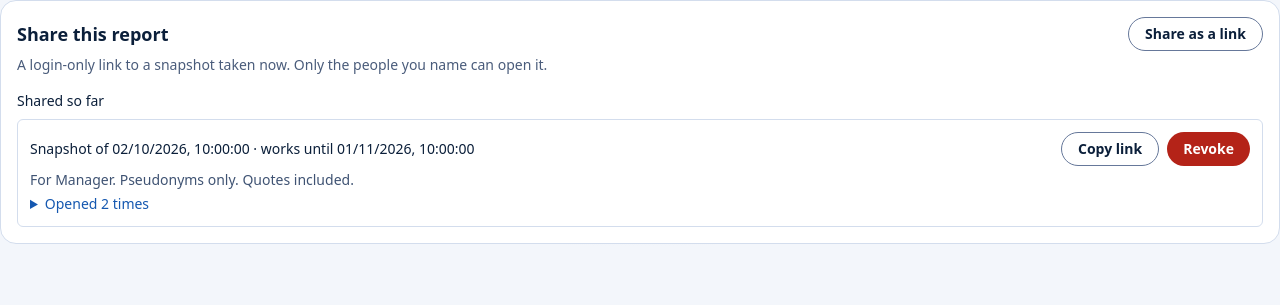
Scenario: Share panel (spec 6.5) › lists what was shared, who opened it, and revokes a link
The width and height of the screenshot is (1280, 305).
expect the text "works until" is shown: met, box [261, 139, 474, 158]
expect the text "For Manager. Pseudonyms only. Quotes included." is shown: met, box [30, 170, 354, 189]
Click the heading "Opened 2 times": click(97, 204) [45, 194, 149, 213]
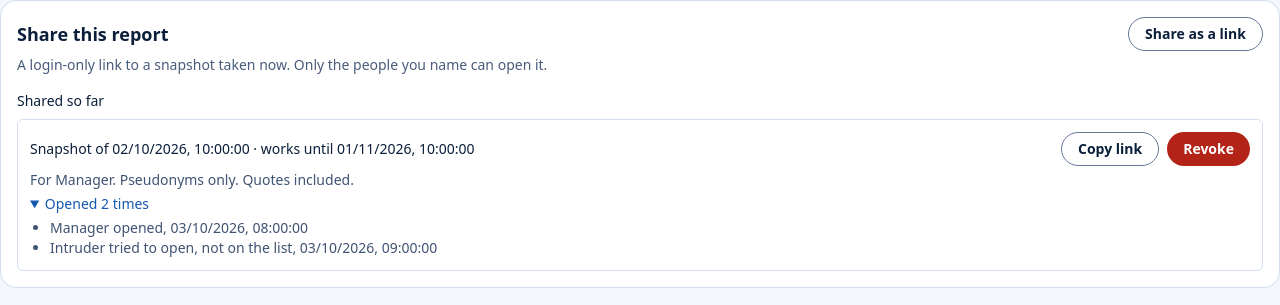
expect the list item "Intruder tried to open, not on the list" is shown: met, box [50, 238, 437, 257]
Click the button "Revoke": click(1209, 149) [1167, 132, 1250, 166]
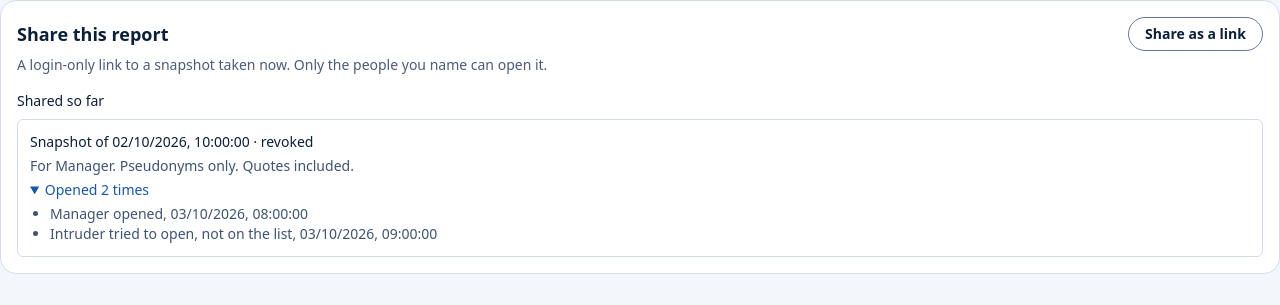
expect the text "Snapshot of 02/10/2026, 10:00:00 · revoked" is shown: met, box [30, 132, 313, 152]
